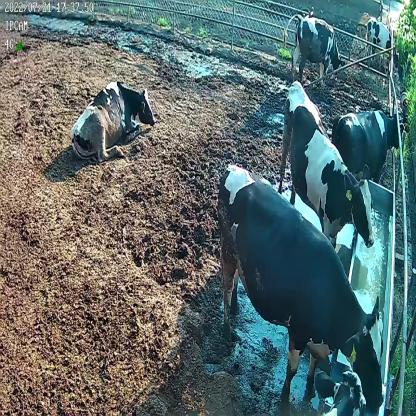cow: (216, 161, 386, 413), (280, 78, 376, 252), (71, 78, 155, 162), (331, 108, 402, 181), (283, 14, 348, 86)
